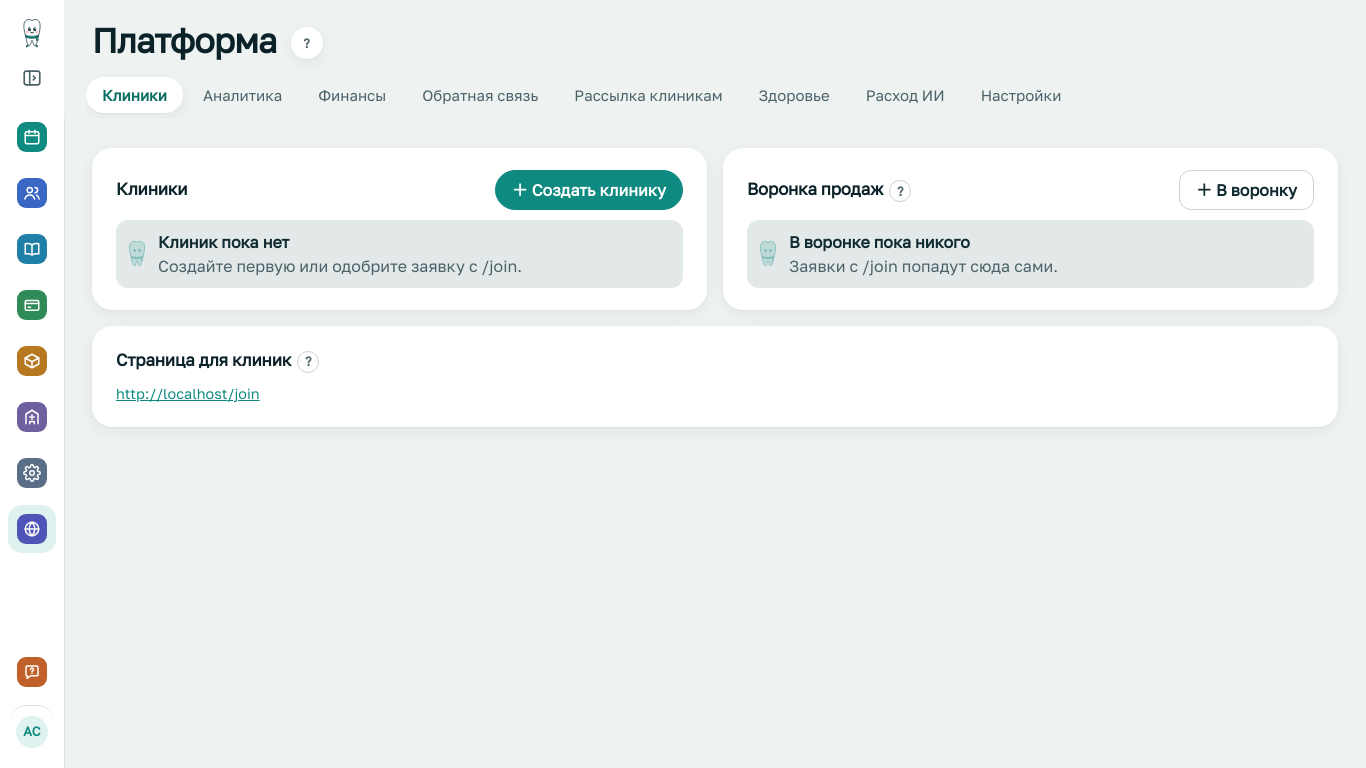
Test: владелец: «Расход ИИ» — итог в $ и сомах, клиники с тарифом, свой лимит клинике
Later steps or results of the test are not shown.
Expected: the navigation bar named "Разделы" is shown, [8,113,56,553]
Click the link "Расход ИИ" at (905, 95), box [866,86,945,104]
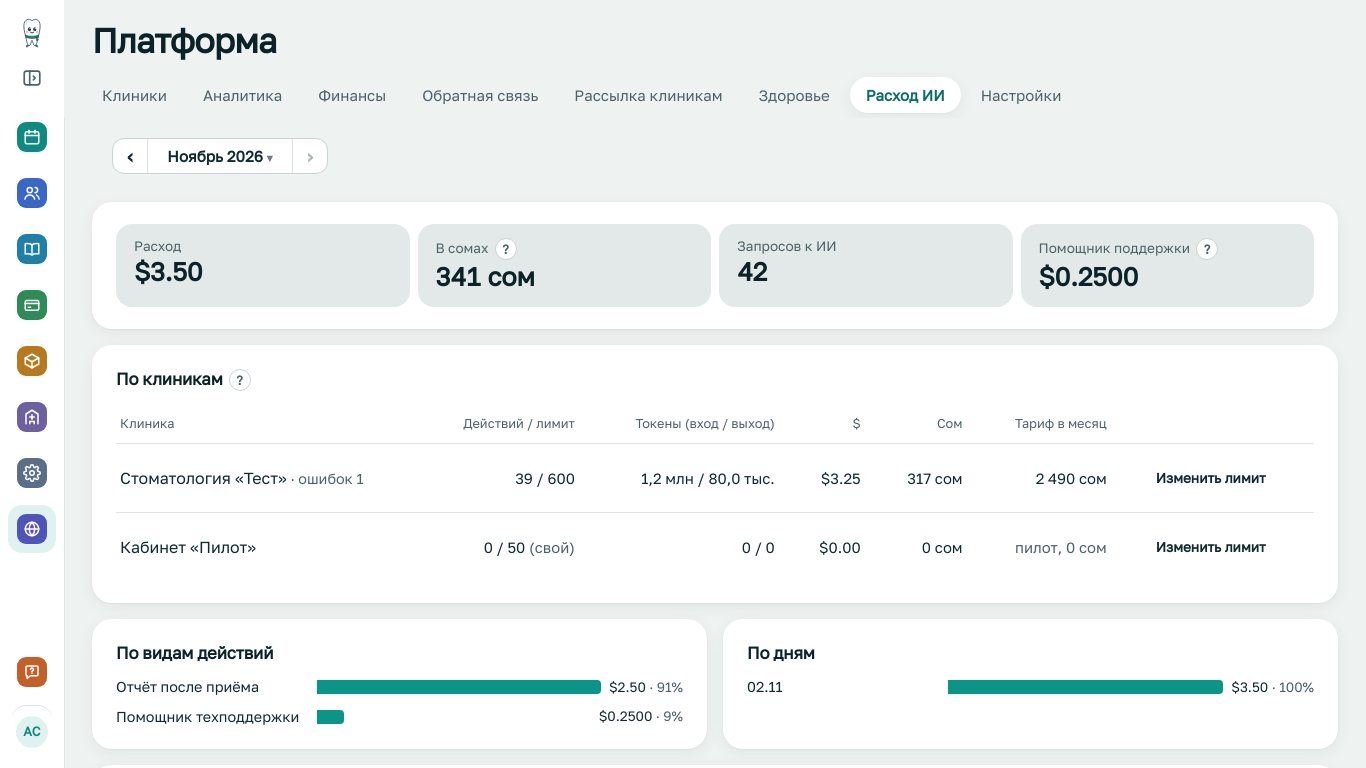
Result: the text named "Расход в долларах" reads "$3.50" at [134,256,202,287]
Result: the text named "Расход в сомах" reads "341 сом" at [436,261,535,292]
Result: the text named "Запросов к ИИ" reads "42" at [737,256,767,287]
